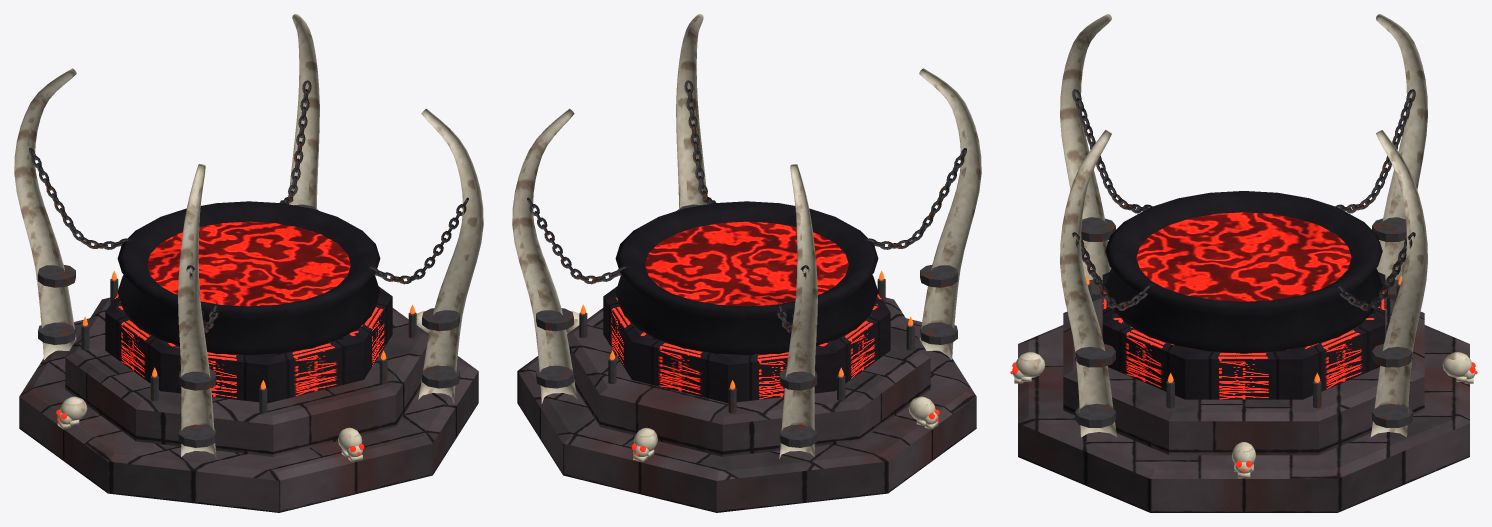
The model's file is blood_altar.glb.
3 views of the same model, side by side, from view 1: azimuth 30°, elevation 25°; view 2: azimuth 150°, elevation 25°; view 3: azimuth 270°, elevation 25° (orthographic). The views are drawn at different scales.
Parts seen in each view (by area): view 1: AltarSteps, AltarHorns, AltarBasin, AltarRunes, AltarBlood, AltarIron, AltarChains; view 2: AltarSteps, AltarHorns, AltarBasin, AltarRunes, AltarBlood, AltarIron, AltarChains; view 3: AltarSteps, AltarHorns, AltarBasin, AltarBlood, AltarRunes, AltarIron, AltarChains.
Boxes of the visible parts, bbox=[...] form: AltarSteps: bbox=[19, 297, 478, 512]; AltarHorns: bbox=[14, 14, 483, 462]; AltarBasin: bbox=[117, 201, 380, 354]; AltarRunes: bbox=[105, 286, 392, 403]; AltarBlood: bbox=[147, 221, 350, 306]; AltarIron: bbox=[38, 204, 459, 447]; AltarChains: bbox=[29, 80, 468, 332]; AltarSteps: bbox=[517, 297, 976, 512]; AltarHorns: bbox=[512, 14, 981, 462]; AltarBasin: bbox=[615, 201, 878, 354]; AltarRunes: bbox=[603, 286, 890, 403]; AltarBlood: bbox=[645, 221, 848, 306]; AltarIron: bbox=[536, 204, 957, 447]; AltarChains: bbox=[527, 80, 966, 332]; AltarSteps: bbox=[1018, 297, 1469, 512]; AltarHorns: bbox=[1012, 14, 1475, 478]; AltarBasin: bbox=[1105, 191, 1382, 353]; AltarBlood: bbox=[1136, 212, 1351, 301]; AltarRunes: bbox=[1102, 272, 1385, 399]; AltarIron: bbox=[1075, 217, 1412, 427]; AltarChains: bbox=[1072, 89, 1415, 310].
Size of what is drawn, in the model's own units: 5.25 by 4.28 by 5.25.
Materials: 8 (6 with a texture image).
